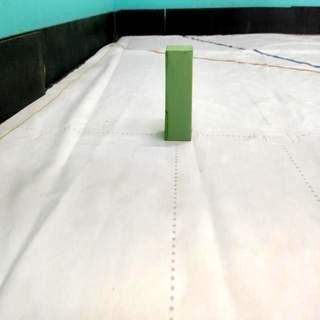greenbox: (163, 45, 194, 142)
